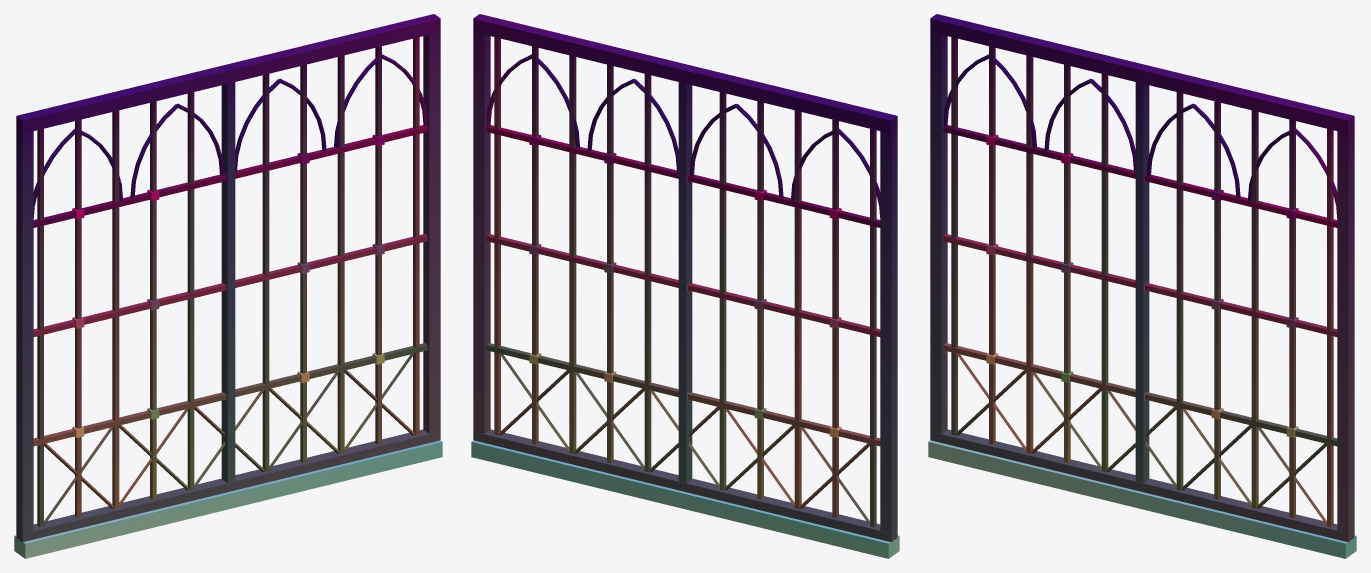
Rendered from aviary_screen.glb.
The picture shows the model from 3 angles, left to right: view 1: azimuth 30°, elevation 25°; view 2: azimuth 150°, elevation 25°; view 3: azimuth 330°, elevation 25°; orthographic projection.
Visible parts, largest first — view 1: screen_slats, screen_frame, screen_sill, screen_bosses; view 2: screen_slats, screen_frame, screen_sill, screen_bosses; view 3: screen_slats, screen_frame, screen_sill, screen_bosses.
Boxes of the visible parts, x1,y1,x2,y2 form: screen_slats: (33, 37, 427, 527); screen_frame: (16, 14, 440, 541); screen_sill: (14, 440, 442, 558); screen_bosses: (72, 134, 384, 437); screen_slats: (486, 37, 880, 527); screen_frame: (473, 14, 897, 541); screen_sill: (471, 440, 899, 558); screen_bosses: (529, 134, 841, 437); screen_slats: (943, 37, 1337, 527); screen_frame: (930, 14, 1354, 541); screen_sill: (928, 440, 1356, 558); screen_bosses: (986, 134, 1298, 437).
Bounding box in the file's own units: 4.01 × 4 × 0.18.
